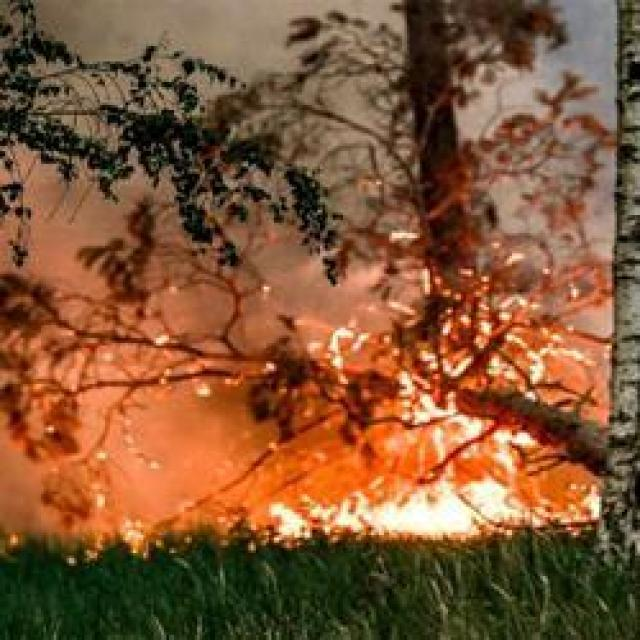Fire: (270, 482, 542, 544)
Smoke: (0, 0, 427, 315), (0, 184, 283, 525)
